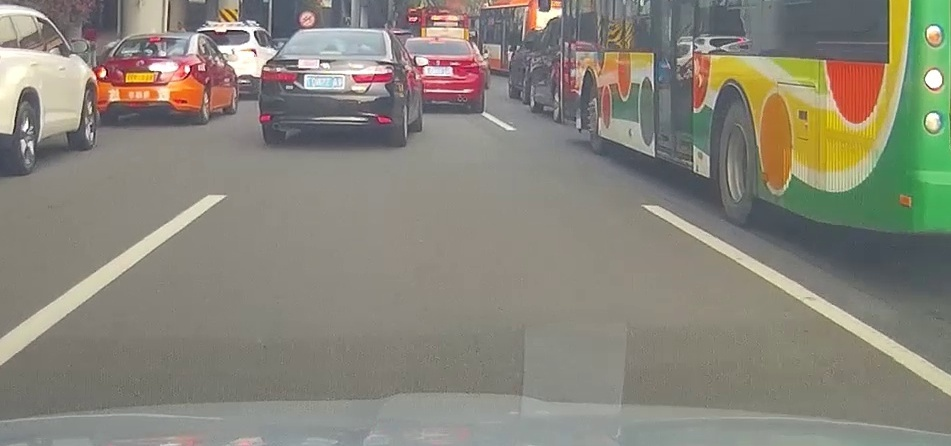L_light: (260, 65, 298, 81), (96, 61, 111, 83)
R_light: (351, 64, 394, 83), (170, 60, 191, 81)
T_light: (319, 51, 341, 55), (149, 36, 161, 41)
day-no: (256, 28, 398, 144)
night-right: (94, 33, 197, 122)
